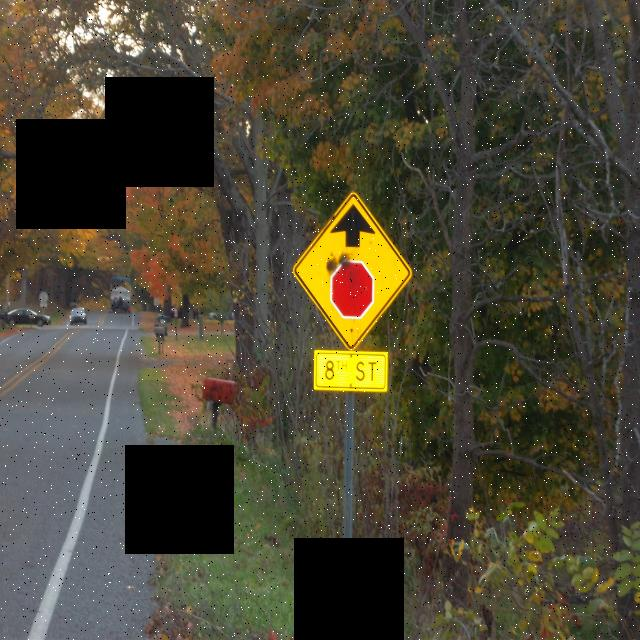stop: (330, 258, 376, 322)
warning: (295, 191, 412, 348), (314, 349, 388, 391)
